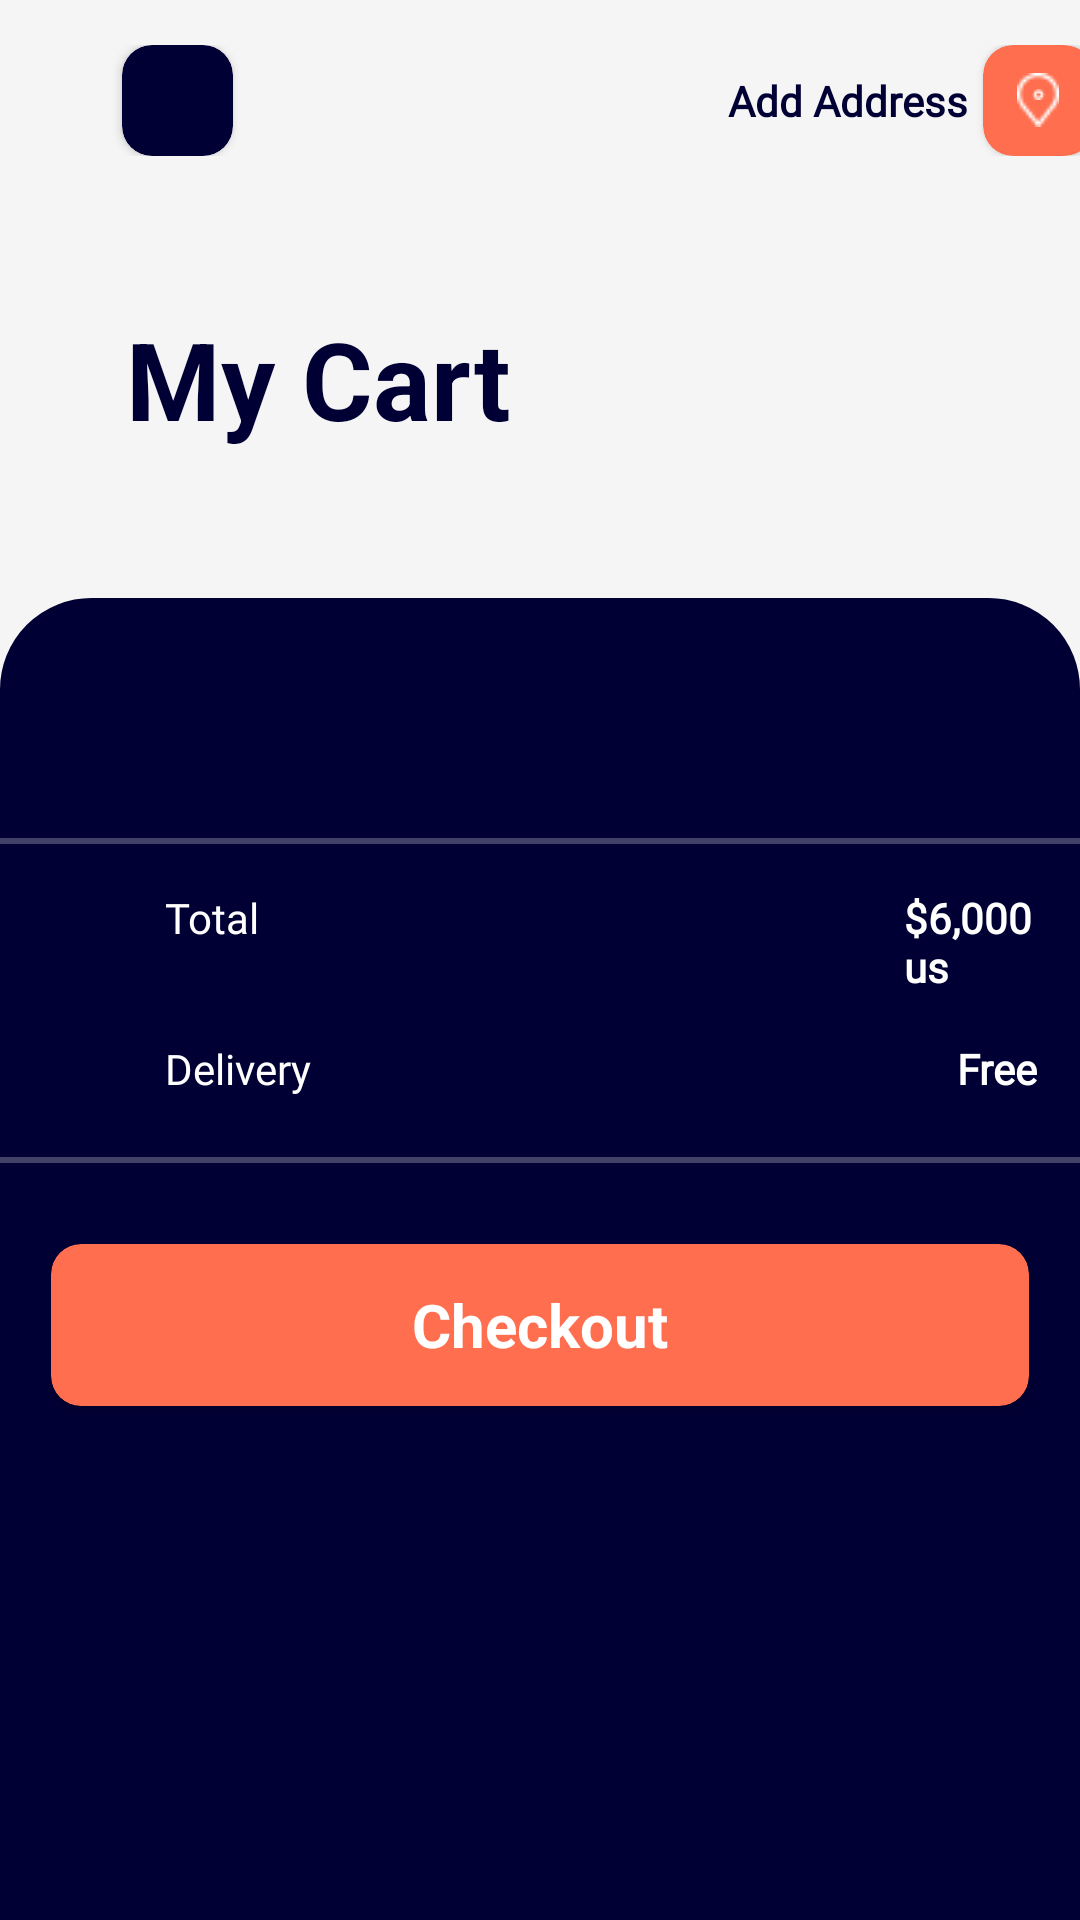

Screen size 1080 × 1920. Icon name, then its box in pixels as bbox=(x1, y1, x2, y2):
locone: bbox=(1017, 73, 1059, 127)
